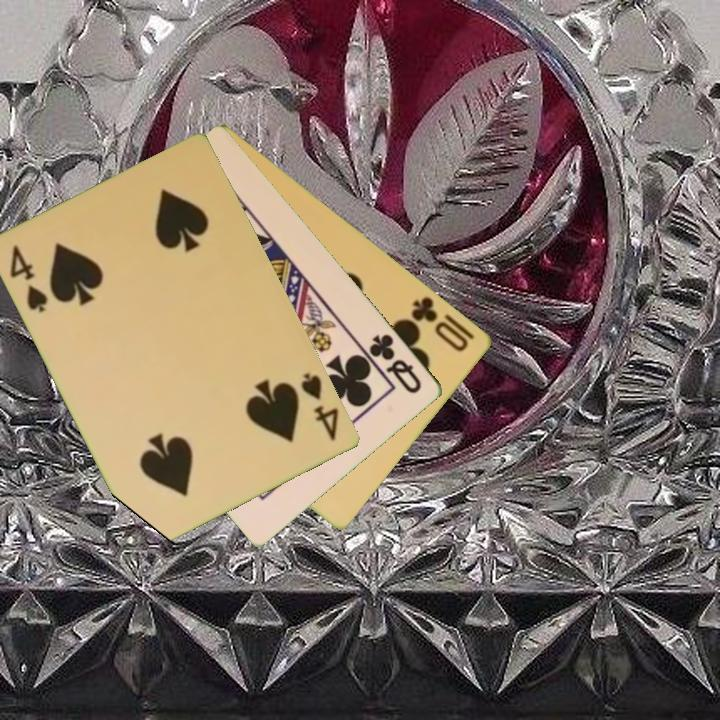10c: (408, 292, 472, 355)
4s: (297, 369, 343, 445), (7, 241, 52, 316)
Qc: (365, 330, 425, 397)
